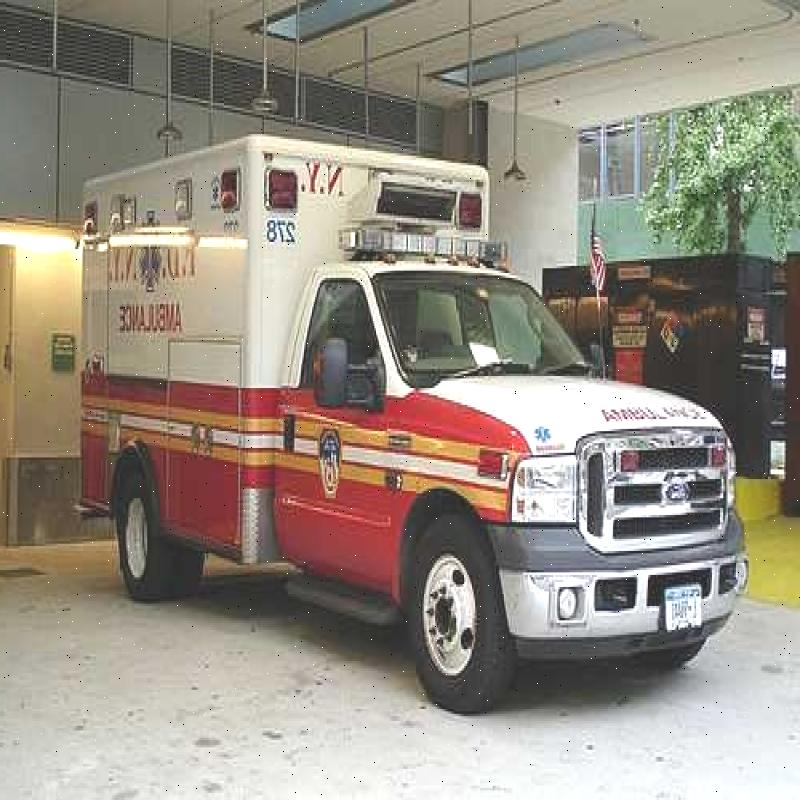AmbulanceSiren: (324, 187, 503, 273)
